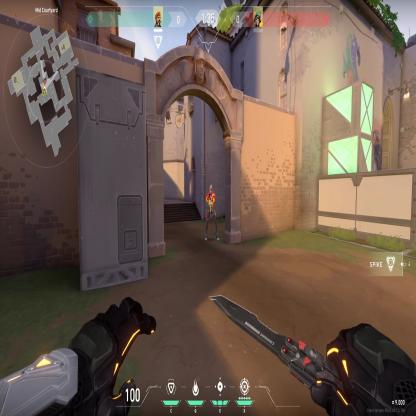enemy: (204, 184, 220, 242)
